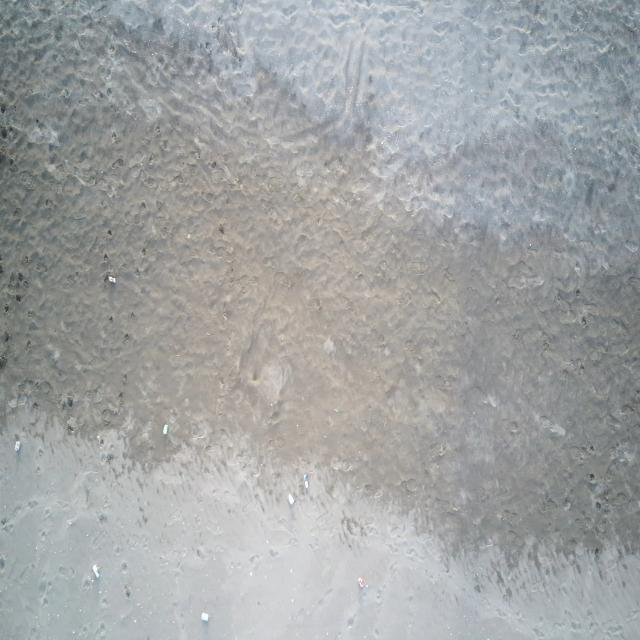tin-and-aluminum-cans: (91, 562, 101, 581), (200, 610, 210, 623), (13, 439, 20, 454), (288, 493, 296, 506), (303, 474, 310, 488), (357, 576, 365, 587), (108, 275, 116, 285), (163, 424, 168, 436)
